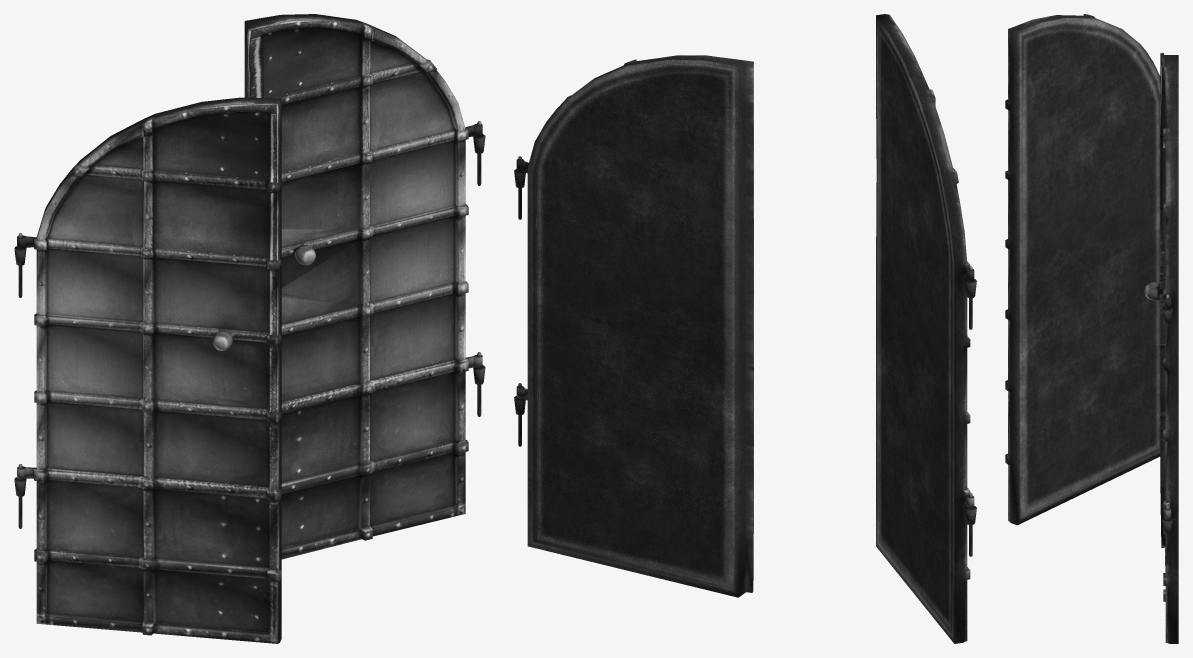
The model's file is Big_DoorDone.dae.
3 views of the same model, side by side, from view 1: azimuth 30°, elevation 25°; view 2: azimuth 150°, elevation 25°; view 3: azimuth 270°, elevation 25° (orthographic). The views are drawn at different scales.
Visible parts, largest first — view 1: Big_Door_L, Big_Door_R; view 2: Big_Door_R, Big_Door_L; view 3: Big_Door_L, Big_Door_R.
Part boxes in pixels (x1=…): Big_Door_L: x1=14, y1=97, x2=281, y2=643; Big_Door_R: x1=244, y1=14, x2=485, y2=559; Big_Door_R: x1=514, y1=55, x2=753, y2=597; Big_Door_L: x1=876, y1=14, x2=976, y2=643; Big_Door_L: x1=1005, y1=14, x2=1160, y2=525; Big_Door_R: x1=1144, y1=53, x2=1178, y2=643.
Size of the model in its own units: 9.91 by 3.48 by 10.93.
Materials: 1 (1 with a texture image).
